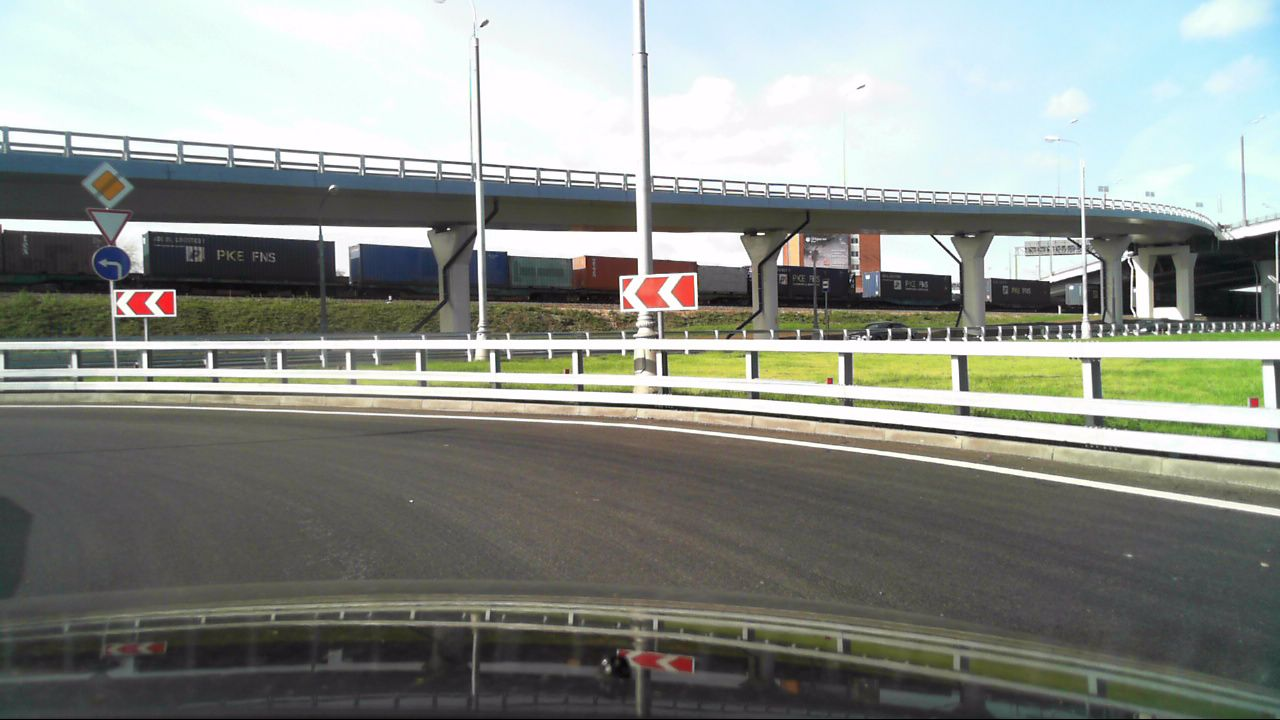main road: (78, 156, 137, 206)
